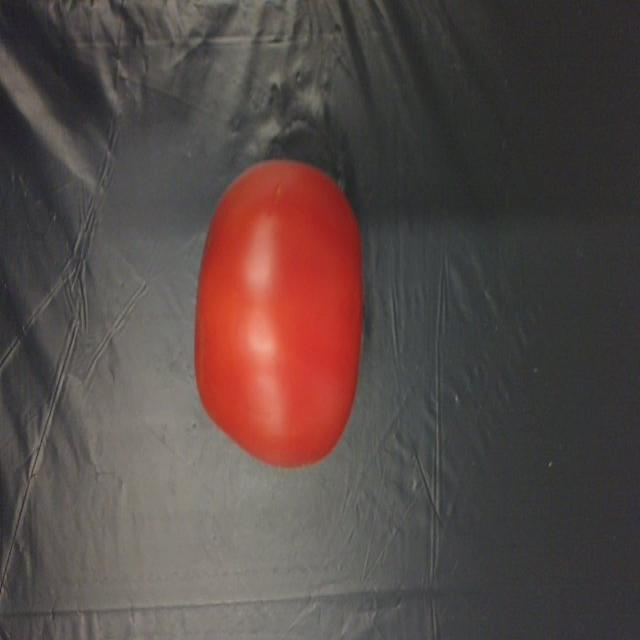kirmizi: (187, 160, 394, 493)
